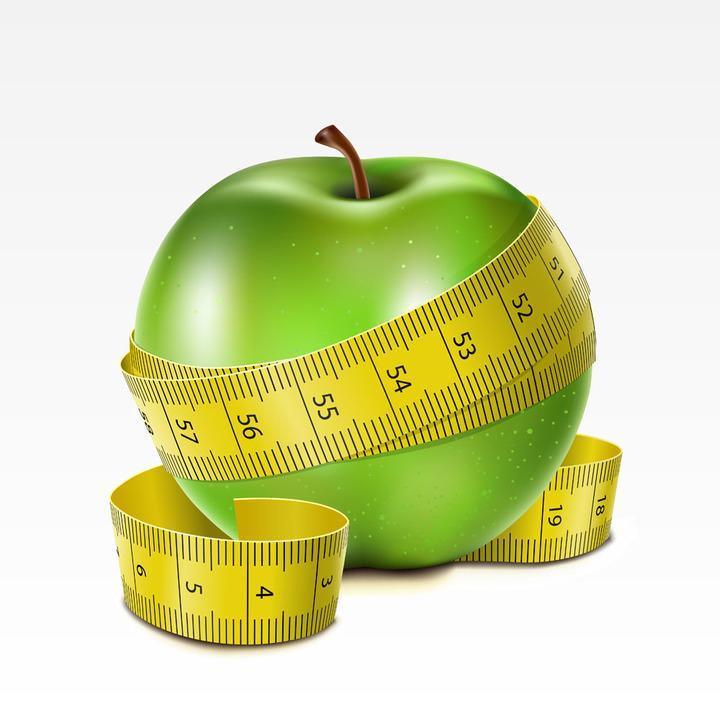apple: (132, 153, 596, 572)
